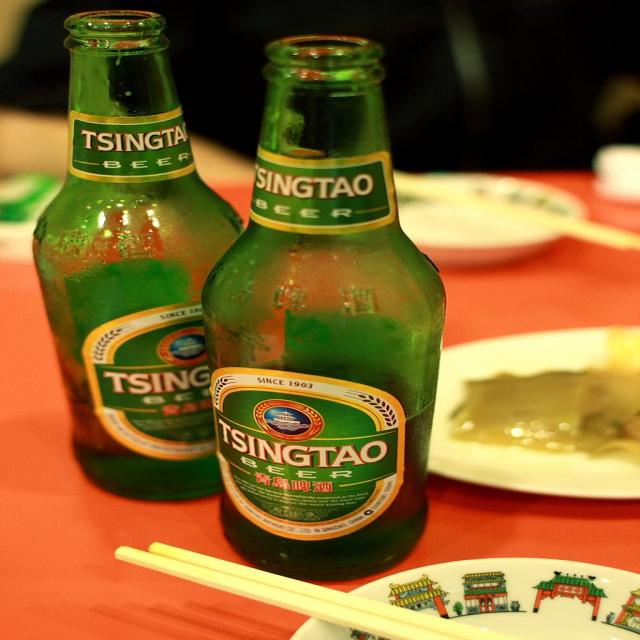tsingtao: (213, 369, 409, 542), (76, 301, 218, 461)
